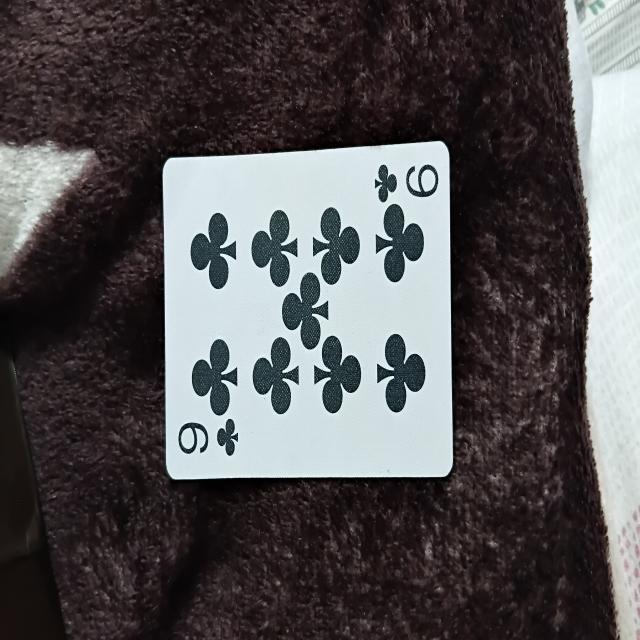9C: (162, 139, 452, 484)
